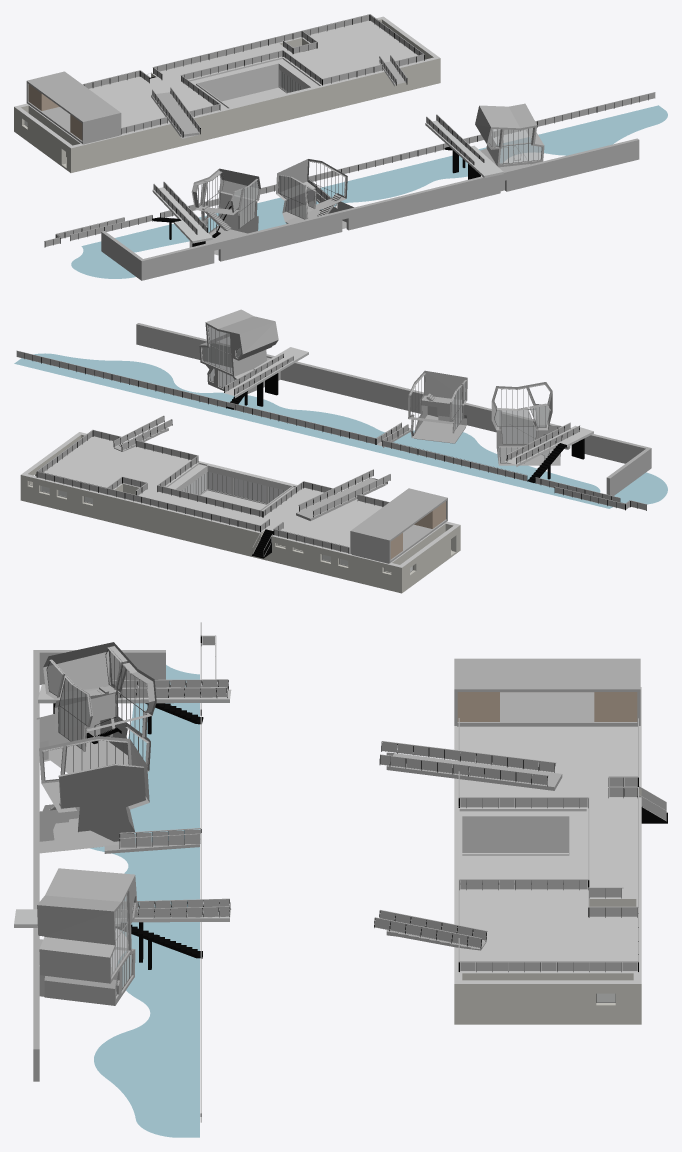
Rendered from 0828-site1.3-env.glb.
3 views of the same model, one above another, from view 1: azimuth 30°, elevation 25°; view 2: azimuth 150°, elevation 25°; view 3: azimuth 270°, elevation 25° (orthographic). The views are drawn at different scales.
Parts seen in each view (by area): view 1: env; view 2: env; view 3: env.
Part boxes in pixels (<box>): env: <box>14,14,667,280</box>; env: <box>14,309,667,593</box>; env: <box>14,622,667,1137</box>.
Bounding box in the file's own units: 108 × 10.67 × 60.6.
